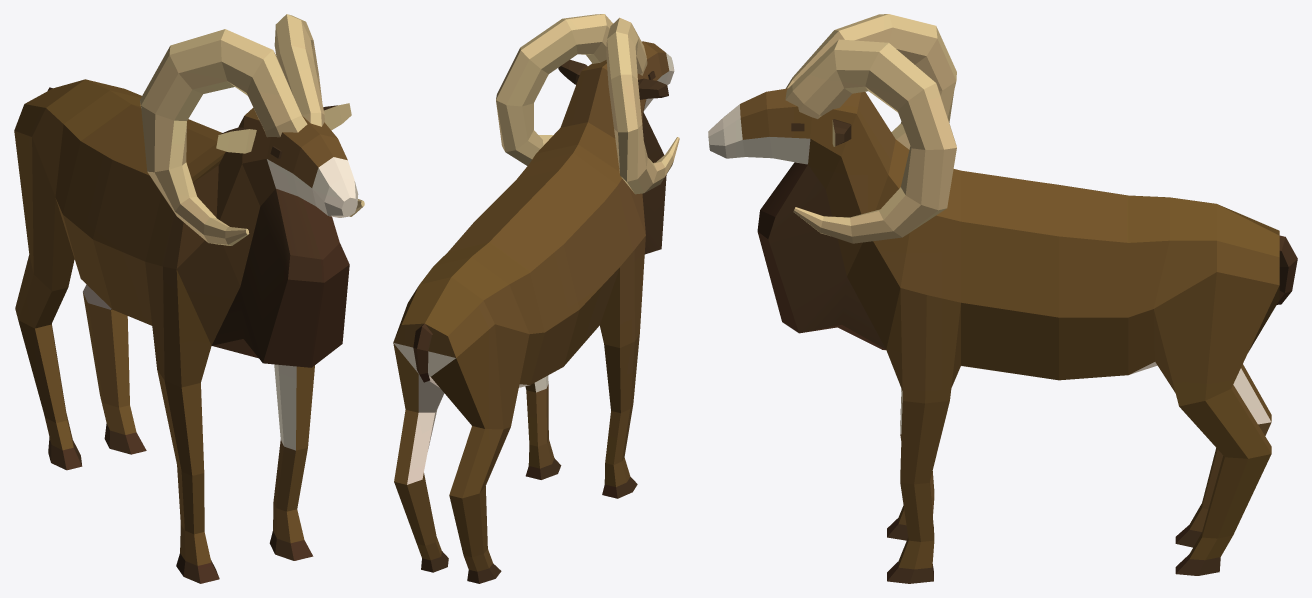
File: animals-ram-164.glb
3 views of the same model, side by side, from view 1: azimuth 30°, elevation 25°; view 2: azimuth 150°, elevation 25°; view 3: azimuth 270°, elevation 25° (orthographic). The views are drawn at different scales.
Parts seen in each view (by area): view 1: Geo_Ram; view 2: Geo_Ram; view 3: Geo_Ram.
Part boxes in pixels (<box>): Geo_Ram: <box>14,14,364,583</box>; Geo_Ram: <box>393,14,679,583</box>; Geo_Ram: <box>708,14,1297,583</box>.
Size of the model in its own units: 38.71 by 118 by 119.
1 material, 1 textured.
